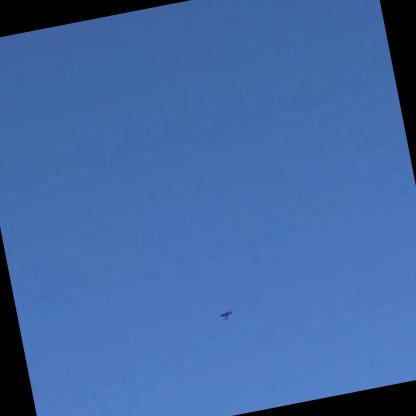plane: (218, 308, 234, 320)
